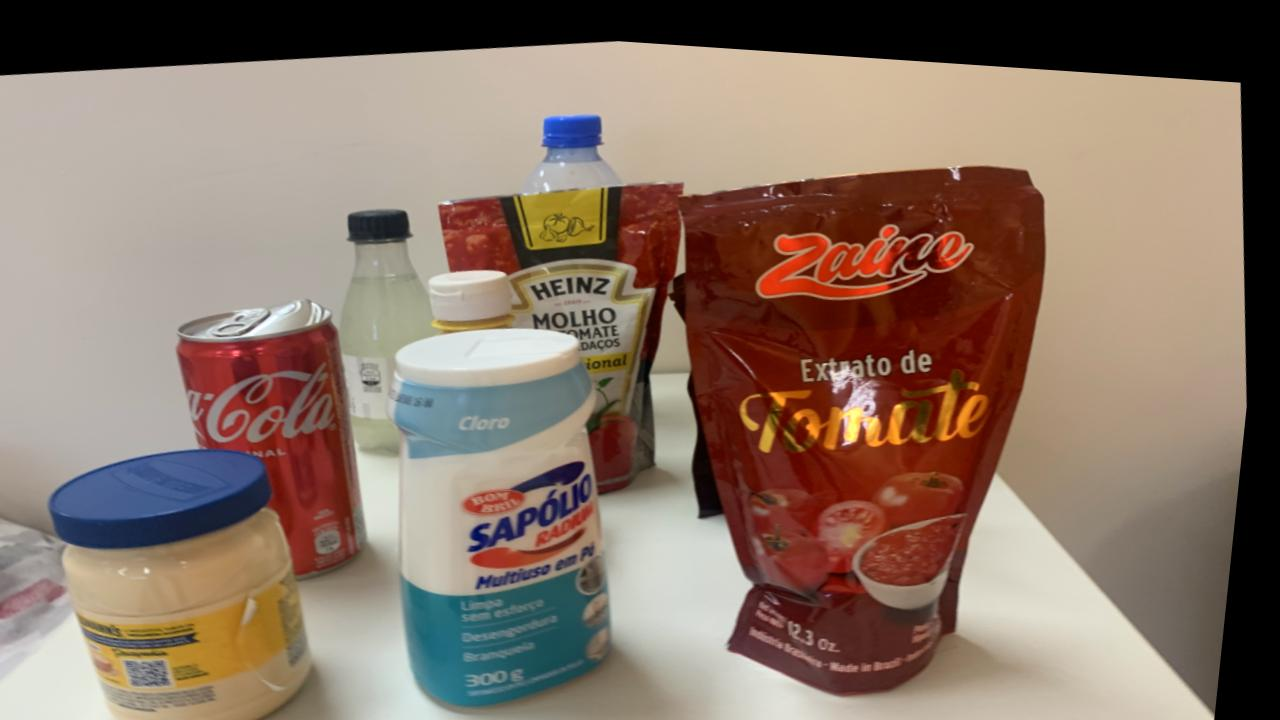Cleaner-Cleanup_Items: (399, 321, 625, 699)
Coke-Drinks: (184, 296, 378, 572)
Mayonnaise-Pantry_Items: (60, 445, 325, 720)
Mustard-Pantry_Items: (435, 263, 519, 326)
Soda-Drinks: (346, 203, 442, 450)
Tomato_Sauce-Pantry_Items: (681, 153, 1050, 681), (444, 172, 687, 484)
Water_Bottle-Drinks: (524, 106, 624, 187)
